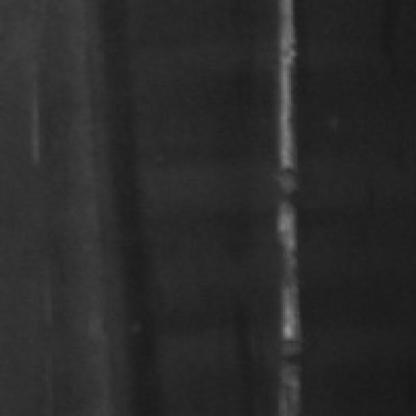scratches: (264, 4, 304, 410)
